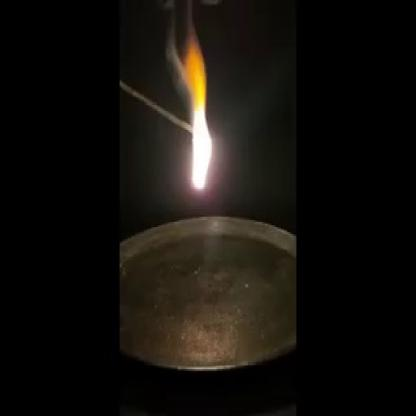fire: (175, 26, 217, 193)
